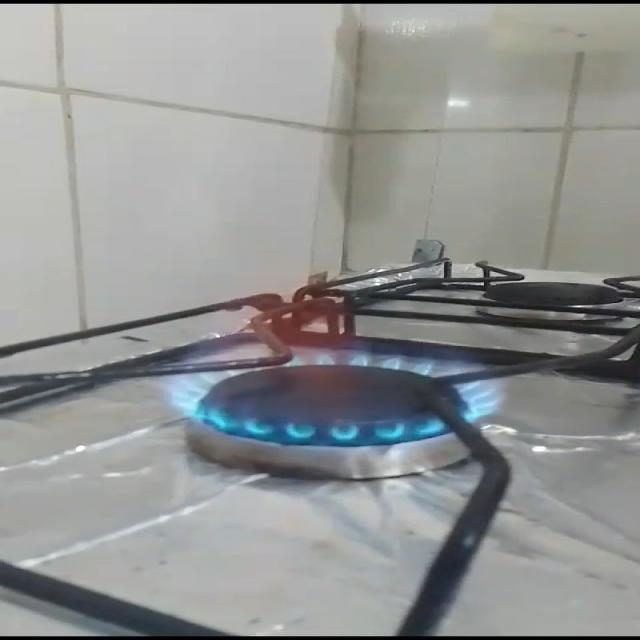fogo-ypXI: (161, 261, 507, 444)
